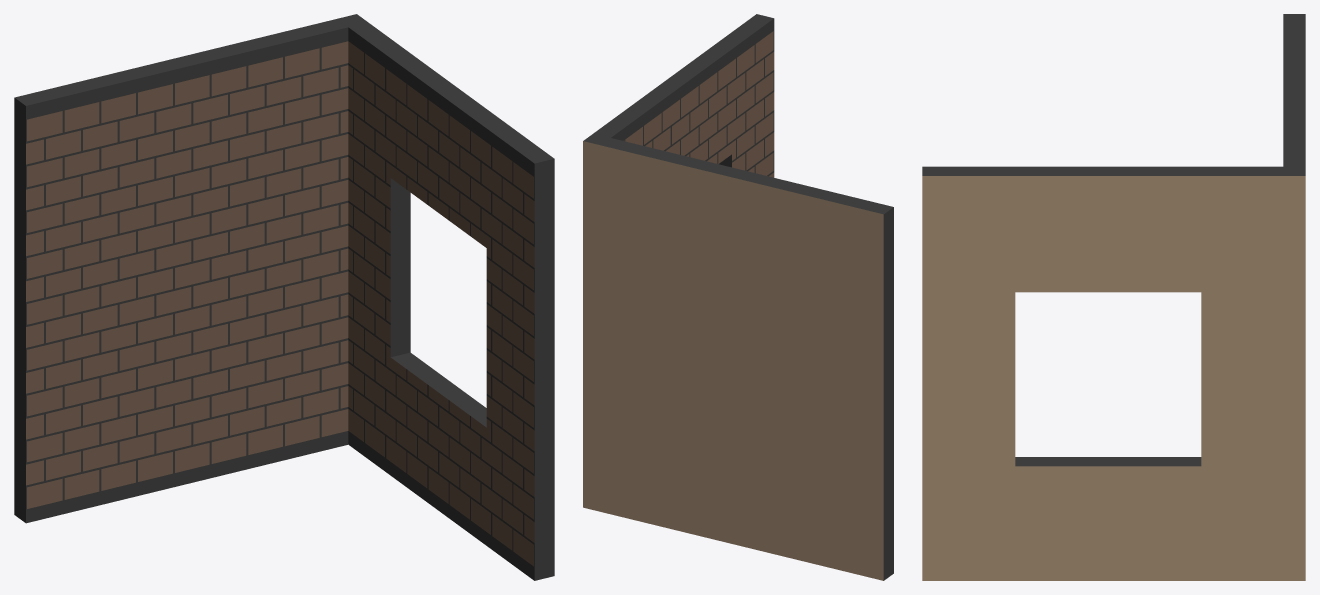
The model's file is Wall3_C10_11.fbx.
The picture shows the model from 3 angles, left to right: view 1: azimuth 30°, elevation 25°; view 2: azimuth 150°, elevation 25°; view 3: azimuth 270°, elevation 25°; orthographic projection. The views are drawn at different scales.
Visible parts, largest first — view 1: Wall3_C10_11; view 2: Wall3_C10_11; view 3: Wall3_C10_11.
Part boxes in pixels (box(x1,y1,x2,y2)): Wall3_C10_11: box(14, 14, 554, 580); Wall3_C10_11: box(583, 14, 893, 580); Wall3_C10_11: box(922, 14, 1305, 580).
Size of the model in its own units: 258 by 300 by 258.
